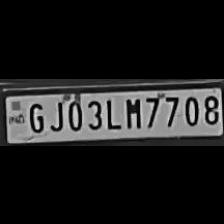0: (65, 96, 83, 130), (180, 92, 198, 126)
3: (84, 94, 102, 130)
7: (142, 94, 160, 128), (160, 93, 178, 127)
8: (200, 90, 218, 126)
G: (26, 98, 44, 132)
J: (46, 96, 64, 132)
L: (103, 94, 121, 130)
M: (120, 94, 142, 128)
